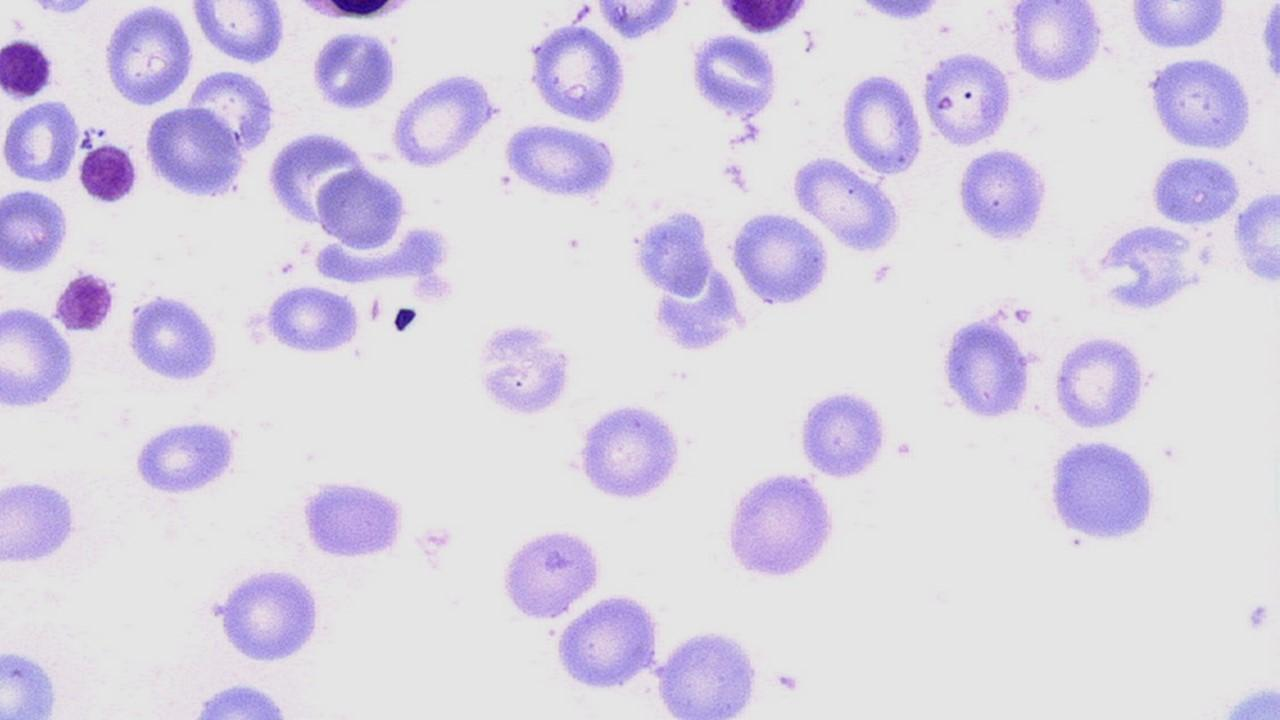Platelets: (471, 319, 577, 420), (52, 269, 118, 337), (77, 139, 140, 207), (1, 34, 55, 100), (1219, 674, 1280, 718), (849, 0, 945, 24), (410, 518, 457, 560), (23, 0, 97, 19), (770, 666, 806, 700), (721, 160, 752, 191), (390, 305, 419, 334), (726, 129, 761, 148), (1012, 306, 1036, 327), (369, 294, 385, 324)
RBC: (789, 156, 907, 254), (1144, 53, 1254, 156), (729, 207, 832, 308), (499, 118, 618, 202), (100, 3, 196, 107), (919, 47, 1015, 148), (838, 69, 926, 176), (183, 65, 277, 160), (1006, 0, 1106, 89), (0, 301, 78, 414), (687, 31, 782, 119), (309, 25, 398, 114), (262, 282, 362, 357), (0, 97, 78, 185), (0, 184, 73, 276), (189, 1, 287, 67), (1126, 1, 1232, 53), (77, 142, 141, 206)
WBC: (628, 199, 761, 361), (141, 84, 271, 208), (313, 168, 449, 286), (550, 586, 668, 710), (720, 466, 841, 586), (934, 297, 1043, 428), (1043, 434, 1167, 549), (1083, 218, 1215, 320), (572, 398, 690, 506), (209, 560, 328, 666), (386, 66, 502, 172), (524, 16, 632, 126), (792, 153, 906, 256), (1144, 53, 1256, 156), (653, 621, 770, 718), (495, 523, 606, 624), (472, 317, 576, 422), (953, 142, 1054, 248), (1050, 330, 1152, 433), (728, 207, 832, 308), (122, 290, 229, 387), (127, 416, 246, 502), (298, 472, 411, 562), (499, 120, 622, 202), (1, 472, 97, 576), (104, 2, 198, 108), (794, 384, 892, 482), (0, 300, 79, 416), (688, 28, 784, 123), (628, 202, 717, 304), (1008, 1, 1111, 87), (308, 25, 402, 115), (260, 279, 363, 359), (317, 164, 405, 252), (1146, 153, 1244, 227), (0, 98, 80, 186), (1121, 1, 1235, 52), (0, 634, 69, 717), (180, 678, 306, 718), (1232, 185, 1280, 290), (78, 140, 140, 207), (711, 0, 819, 34), (1256, 0, 1280, 102)
